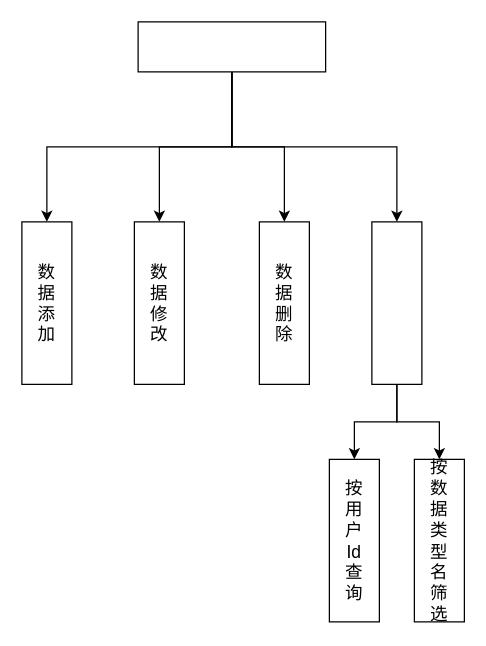
Image size: 486x646. Some labels were removed from this diagram. Here are the shapes that lost their labels. From the top down, the centre of each, then its label:
the point at 231,46: 用户健康数据管理
the point at 396,302: 数 据 查 询
